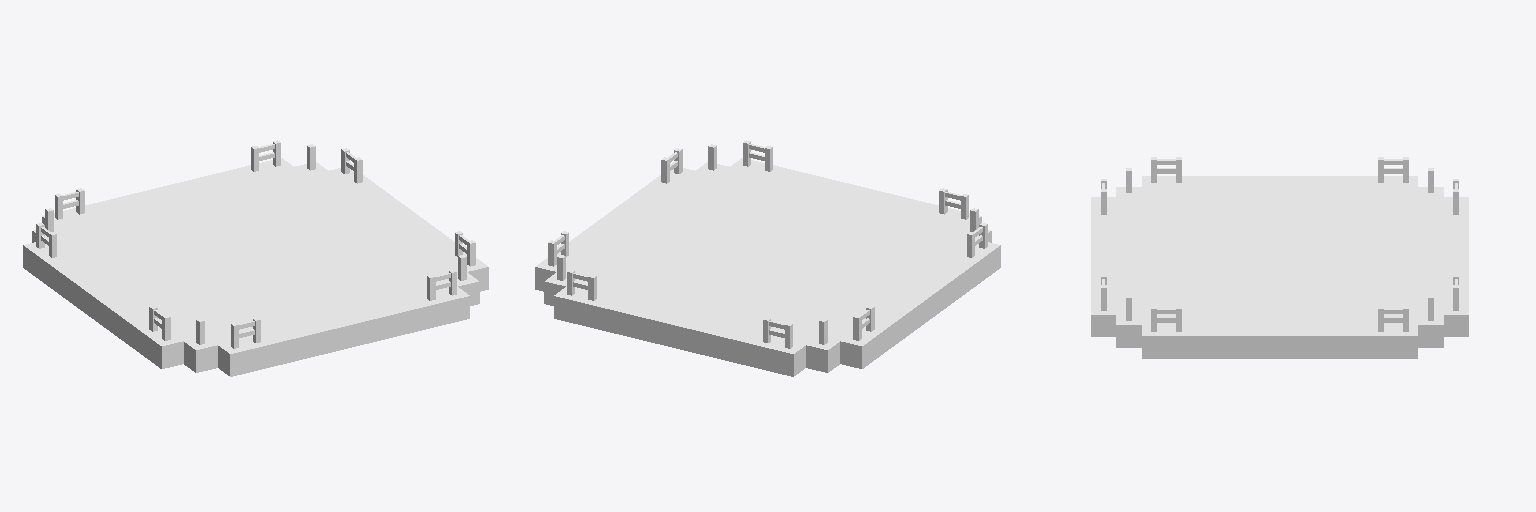
Rendered from Center.obj.
3 views of the same model, side by side, from view 1: azimuth 30°, elevation 25°; view 2: azimuth 150°, elevation 25°; view 3: azimuth 270°, elevation 25° (orthographic).
Visible parts, largest first — view 1: Unity__-23_-60_-38_to_-9_319_-24; view 2: Unity__-23_-60_-38_to_-9_319_-24; view 3: Unity__-23_-60_-38_to_-9_319_-24.
Boxes of the visible parts, box(x1,y1,x2,y2) form: Unity__-23_-60_-38_to_-9_319_-24: box(23, 140, 488, 376); Unity__-23_-60_-38_to_-9_319_-24: box(535, 140, 1000, 376); Unity__-23_-60_-38_to_-9_319_-24: box(1091, 157, 1468, 358).
Bounding box in the file's own units: 52.5 × 7 × 52.5.